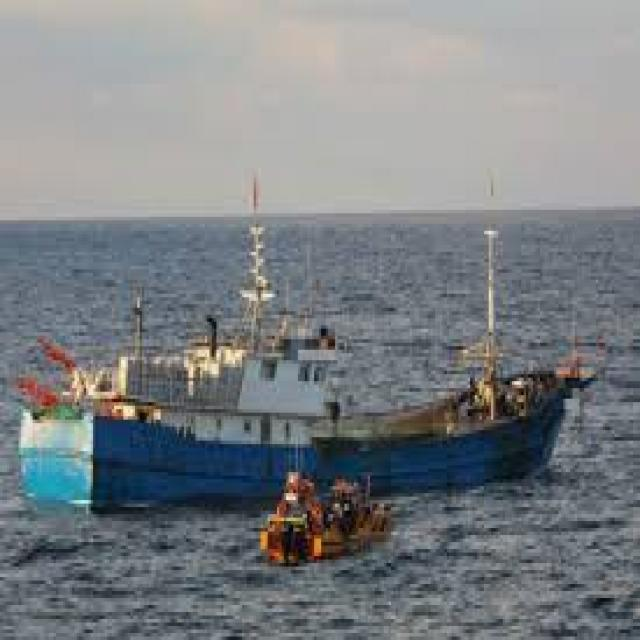Ship: (8, 166, 599, 536)
